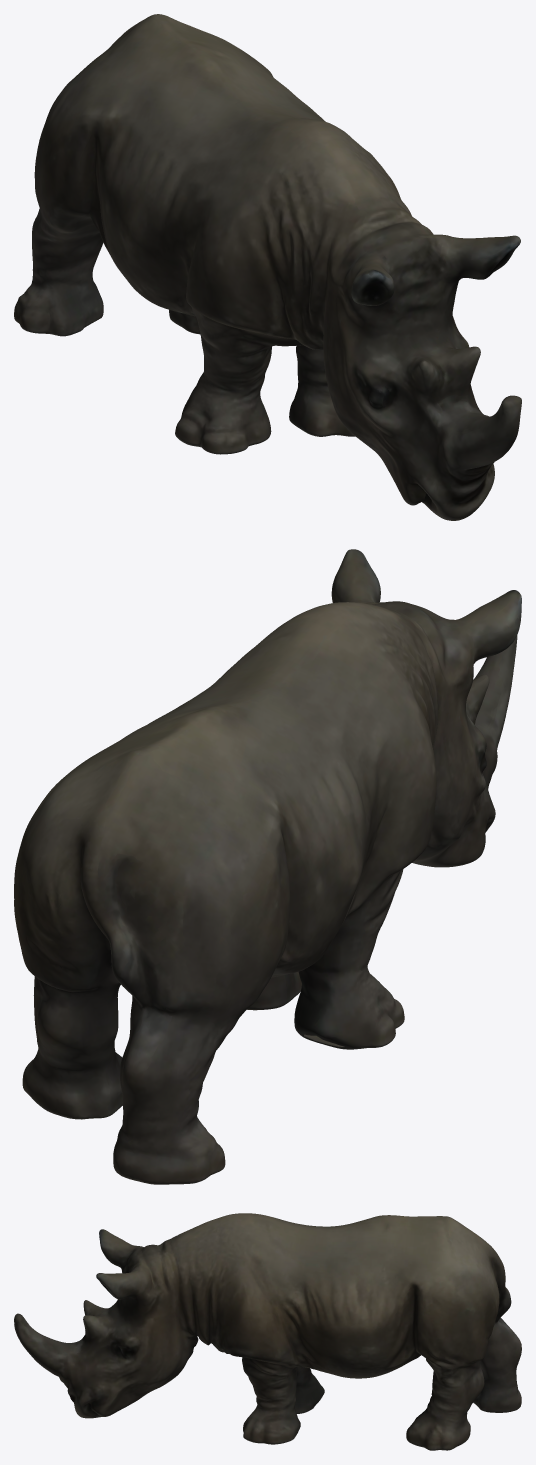
Rendered from Schleich_African_Black_Rhino.glb.
3 views of the same model, one above another, from view 1: azimuth 30°, elevation 25°; view 2: azimuth 150°, elevation 25°; view 3: azimuth 270°, elevation 25° (orthographic). The views are drawn at different scales.
Visible parts, largest first — view 1: geometry_0; view 2: geometry_0; view 3: geometry_0.
Part boxes in pixels (bbox=[...]): geometry_0: bbox=[14, 14, 521, 520]; geometry_0: bbox=[14, 549, 521, 1184]; geometry_0: bbox=[14, 1213, 521, 1450].
Size of the model in its own units: 0.3205 by 0.4496 by 1.
Materials: 1 (1 with a texture image).
